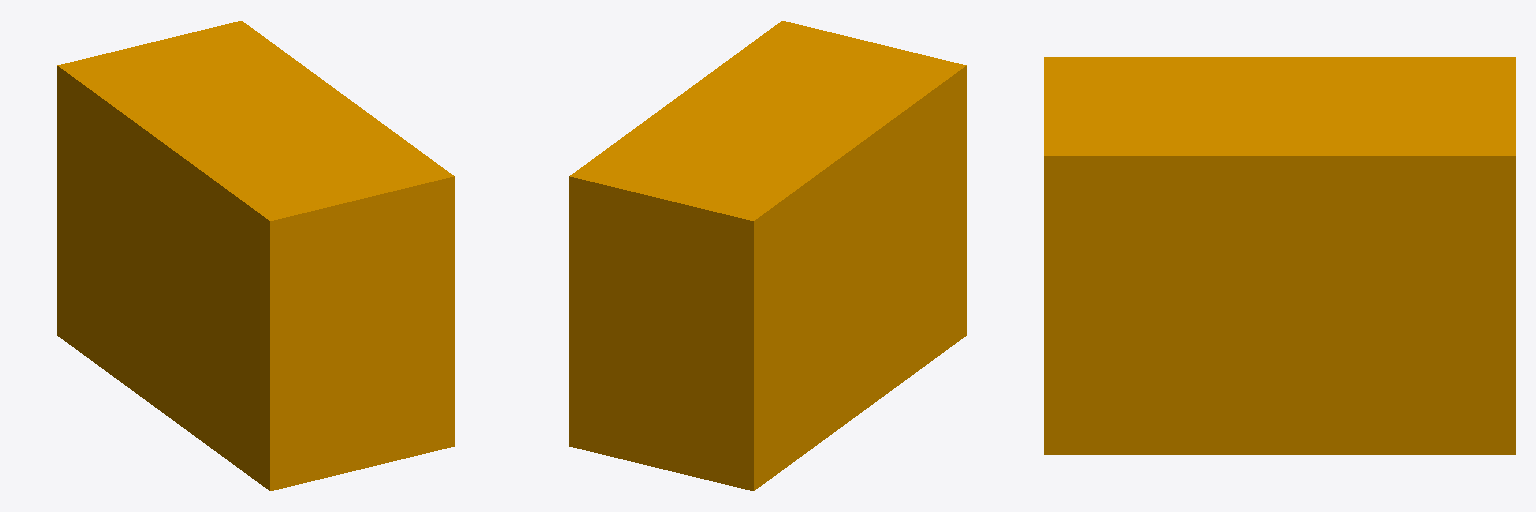
robot.urdf — box:
<robot name="box">
  <link name="nil_link">
    <visual>
      <origin xyz="0 0 0"/>
      <geometry>
        <box size="0.25 0.5 0.35" />
      </geometry>
    </visual>
    <collision>
      <origin xyz="0 0 0"/>
      <geometry>
        <box size="0.25 0.5 0.35" />
      </geometry>
    </collision>
    <inertial>
      <mass value="7.5" />
      <origin xyz="0.0 0.0 0.5" rpy="0 0 0"/>
      <inertia ixx="10.0" ixy="0" ixz="0" iyy="5.7411" iyz="0" izz="0.788"/>
    </inertial>
  </link>
  <gazebo reference="nil_link">
    <kp>1.000000e+06</kp>
    <kd>100.0</kd>
    <mu1>0.1</mu1>
    <mu2>0.1</mu2>
    <fdir1>1.0 0.0 0.0</fdir1>
  </gazebo>
  <gazebo reference="nil_link">
    <material>Gazebo/Blue</material>
  </gazebo>
  <gazebo>
    <plugin filename="libAddForcePlugin2.so" name="simple_box_add_force_plugin2">
      <objname>obj3</objname>
      <linkname1>LARM_LINK6</linkname1>
      <linkname2>RARM_LINK6</linkname2>
    </plugin>
    <plugin filename="libGetVelPlugin.so" name="simple_box_get_vel_plugin">
      <objname>obj3</objname>
      <linkname>nil_link</linkname>
    </plugin>
    <plugin filename="libSetVelPlugin.so" name="simple_box_set_vel_plugin">
      <objname>obj3</objname>
      <linkname>nil_link</linkname>
    </plugin>
  </gazebo>
</robot>

--- Render facts (derived) ---
Views: 3 orthographic renders of the robot side by side, from view 1: azimuth 30°, elevation 25°; view 2: azimuth 150°, elevation 25°; view 3: azimuth 270°, elevation 25°.
Model box with 1 links and 0 joints (none), rooted at nil_link, posed every joint at zero.
Visible links, largest first — view 1: nil_link; view 2: nil_link; view 3: nil_link.
Link boxes in pixels (left/top/right/bottom): nil_link: left=57, top=21, right=454, bottom=490; nil_link: left=569, top=21, right=966, bottom=490; nil_link: left=1044, top=57, right=1515, bottom=454.
Bounding box of the posed robot: 0.25 × 0.5 × 0.35 m (x, y, z).
Geometry: primitives only (box / cylinder / sphere), no mesh files.